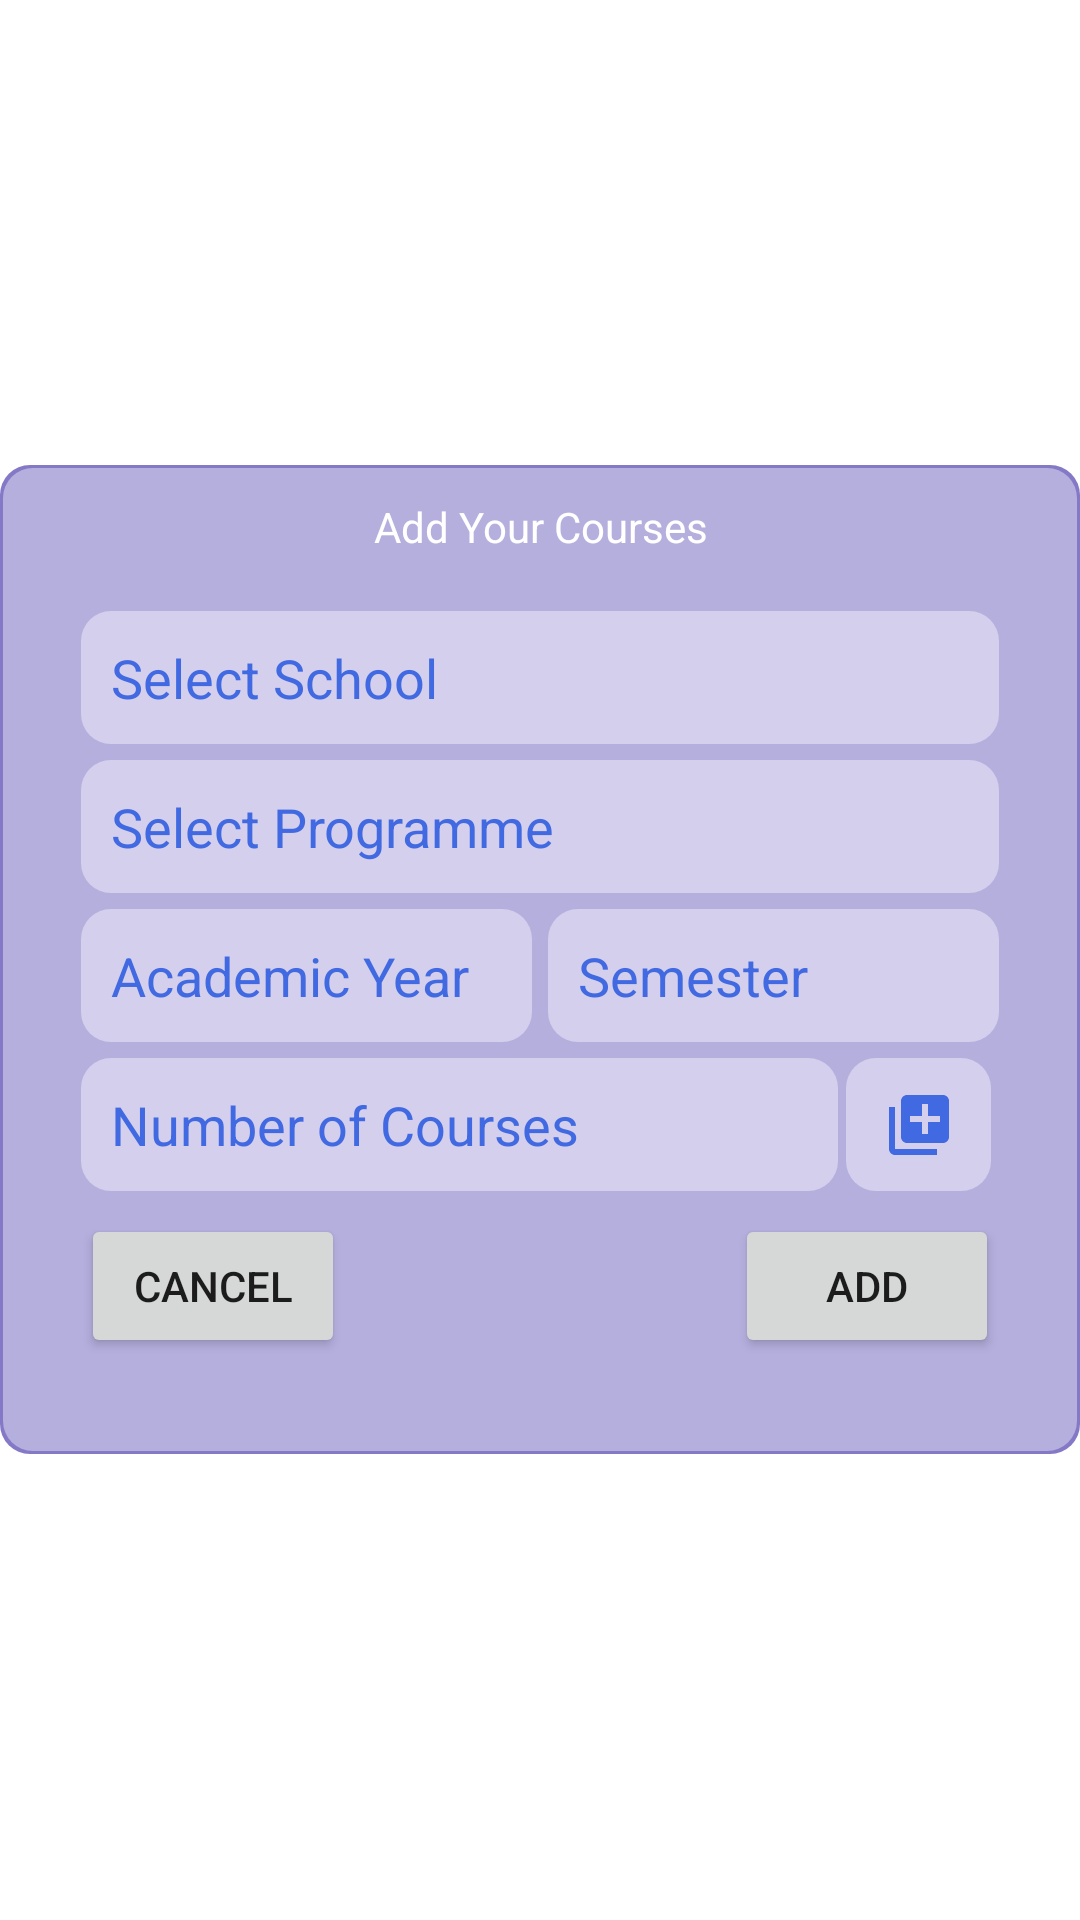

Named icons in this screenshot (1080*1920) and their centers, (x=x, y=y):
library add: (x=918, y=1124)
